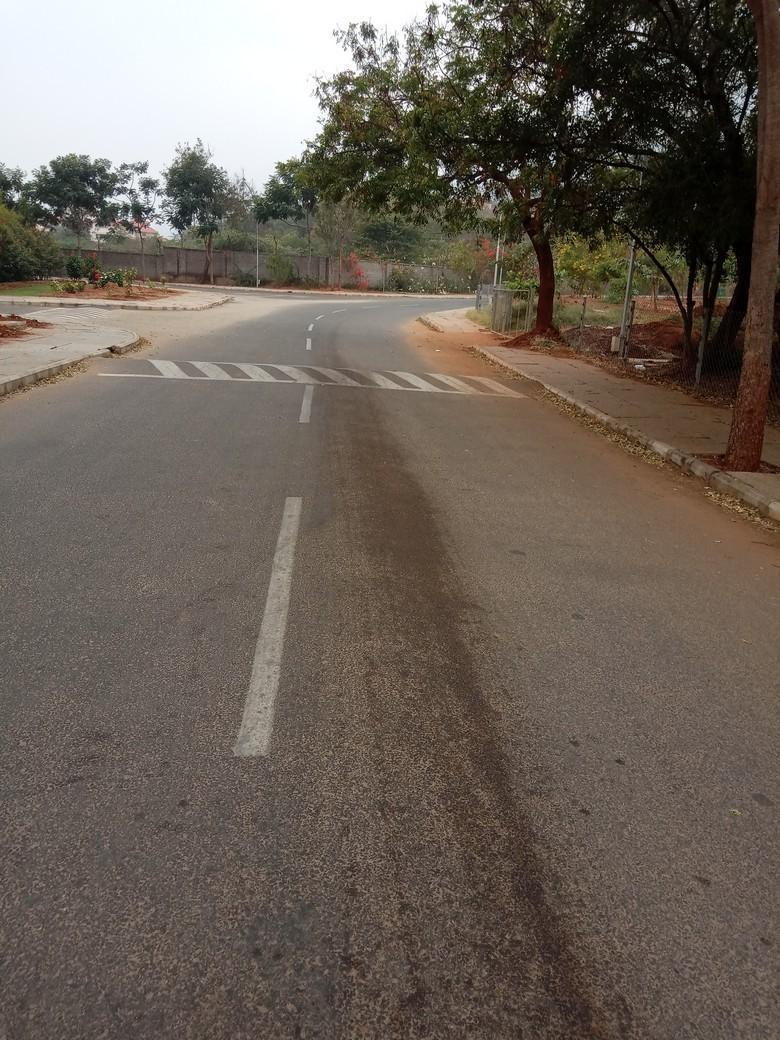speedbreaker: (87, 350, 552, 397)
